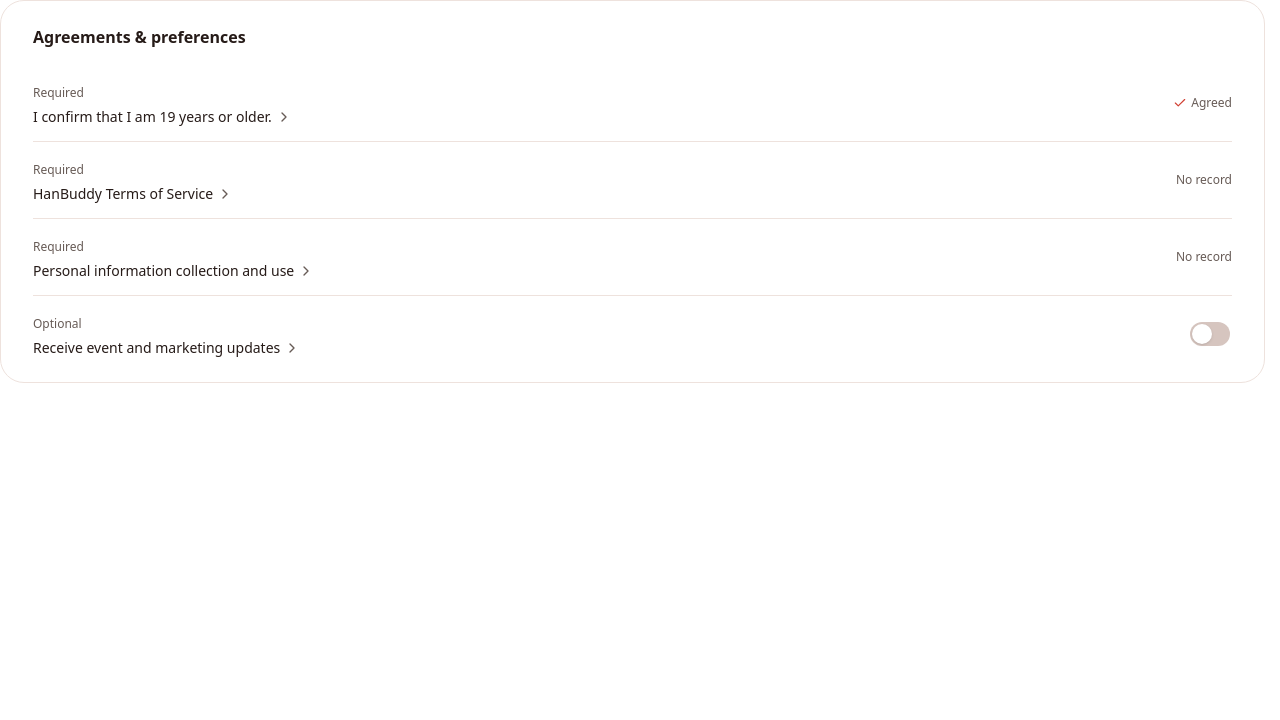
Scenario: opens a current document without changing consent
Expected: the text "Recorded version" is not shown
Expected: the text "Current document" is not shown
Click the button "I confirm that I am 19 years or older." at [162, 117], box [33, 107, 292, 127]
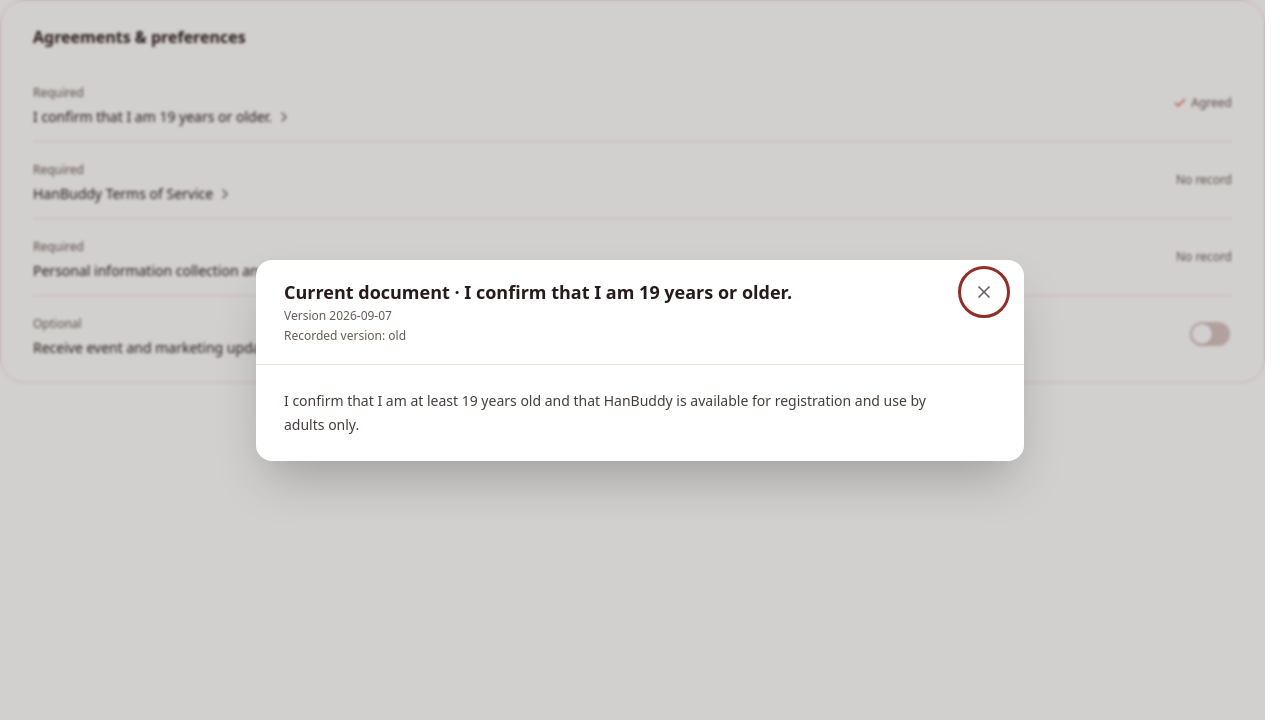
Expected: the dialog shows "Current document", [284, 280, 792, 304]
Expected: the text "Recorded version: old" is shown, [284, 326, 406, 344]
